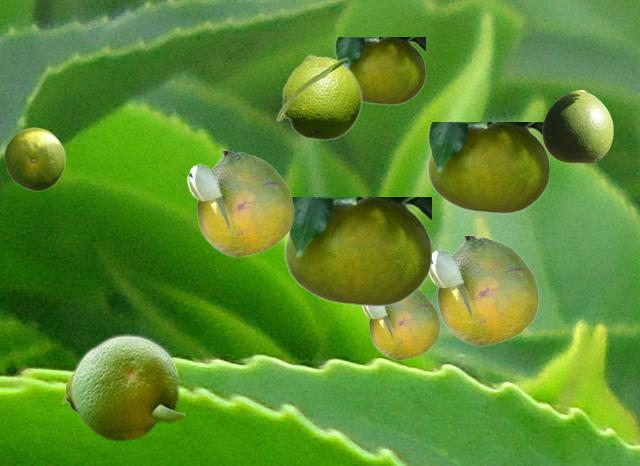dalandan: (284, 197, 430, 306), (69, 333, 187, 441), (429, 236, 538, 345), (186, 151, 293, 256), (427, 122, 548, 213), (275, 54, 362, 140), (334, 37, 424, 104), (362, 289, 439, 359), (542, 90, 612, 162), (4, 127, 64, 190), (61, 377, 73, 411)
